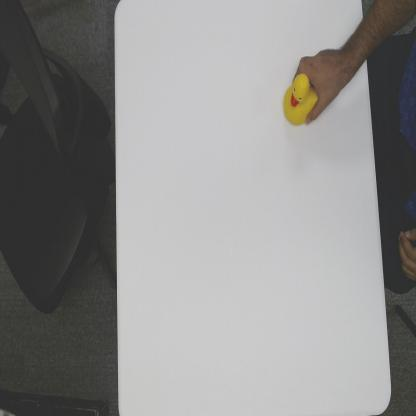Arm: (342, 19, 367, 87)
Duck: (282, 69, 328, 128)
Hand: (292, 44, 346, 124)
